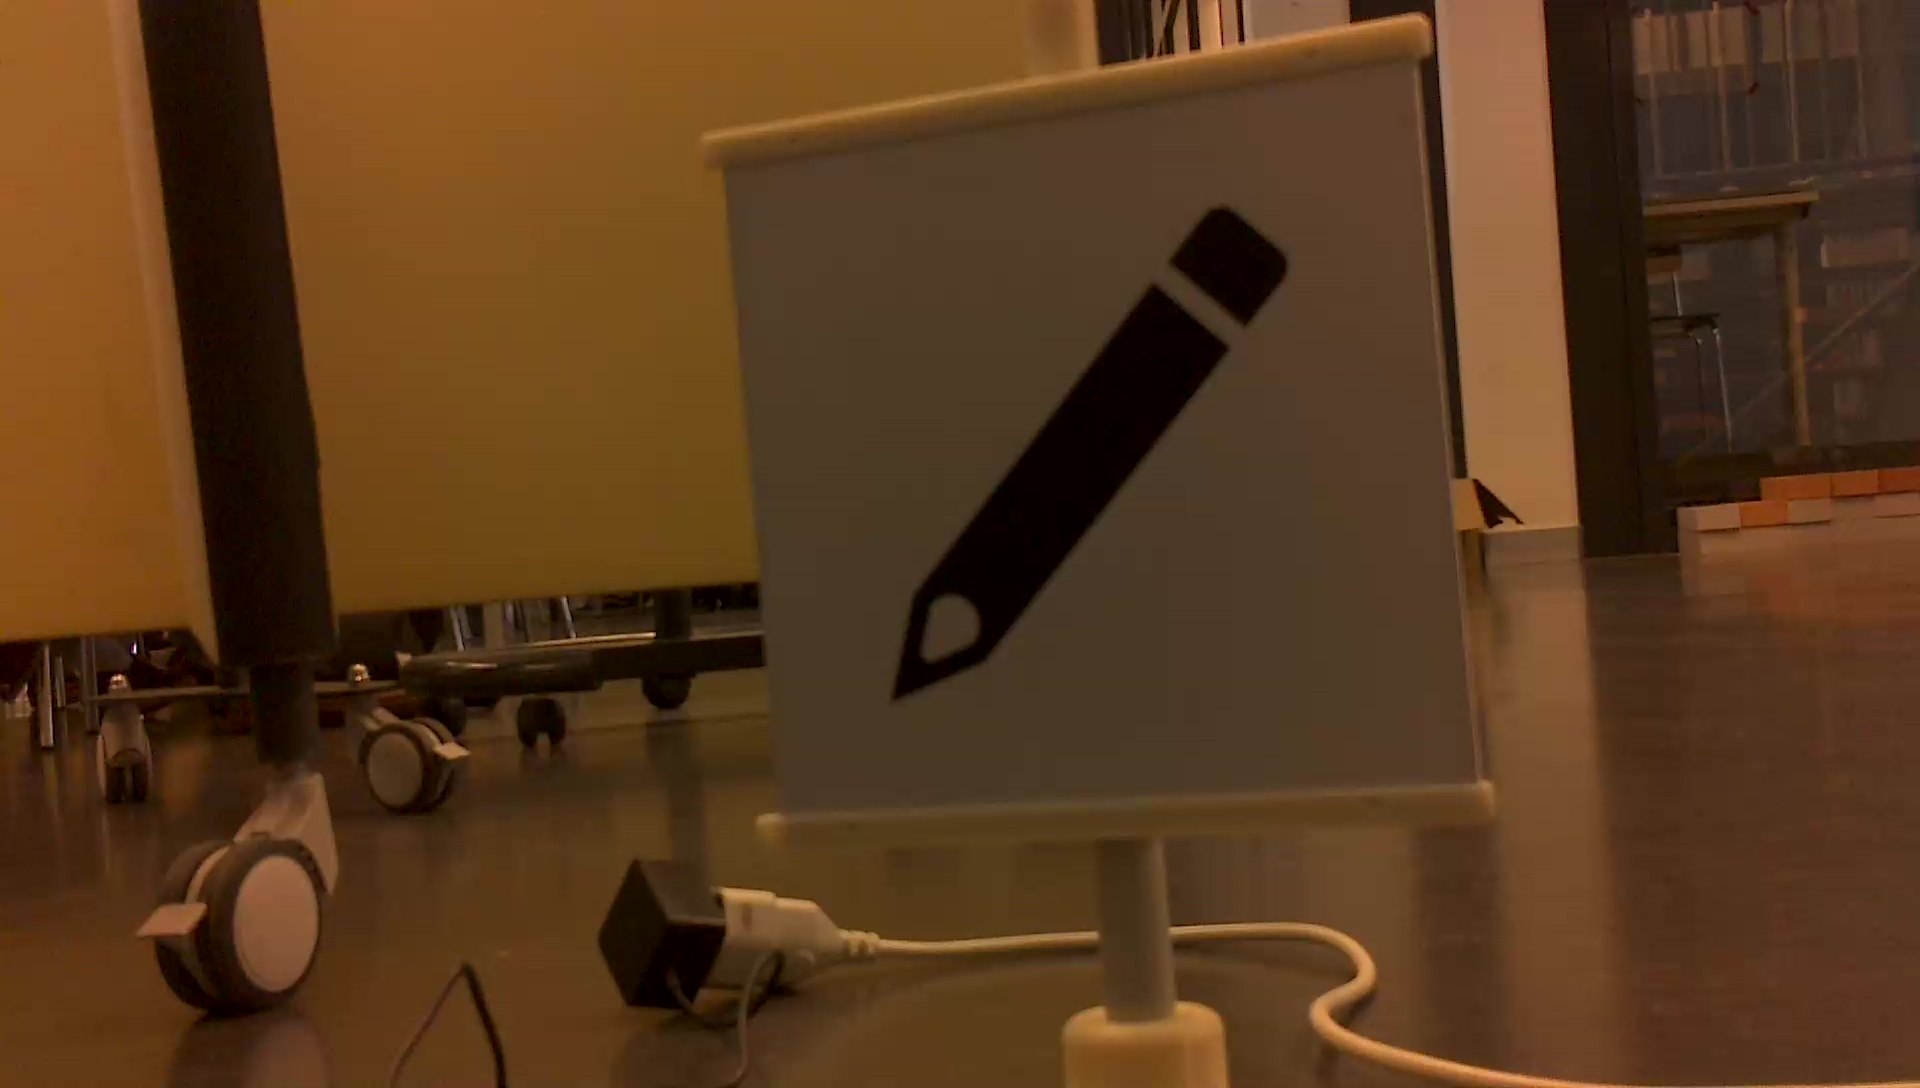pencil: (869, 181, 1307, 727)
